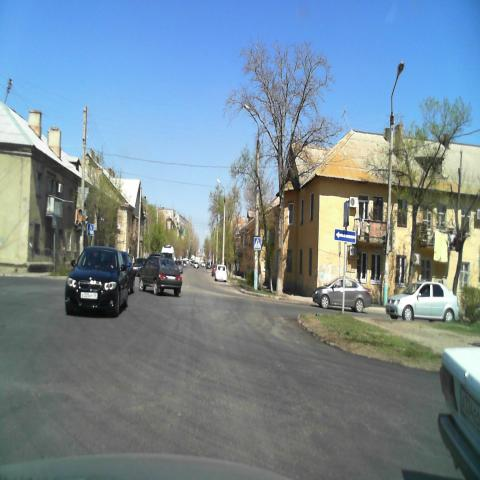5_7_2: (334, 228, 356, 244)
